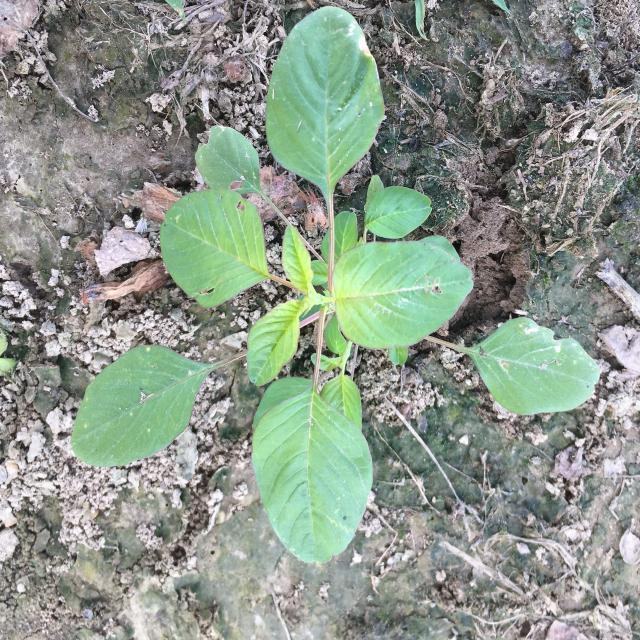PalmerAmaranth: (70, 5, 600, 565)
